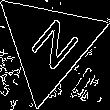N_SW: (19, 12, 79, 76)
